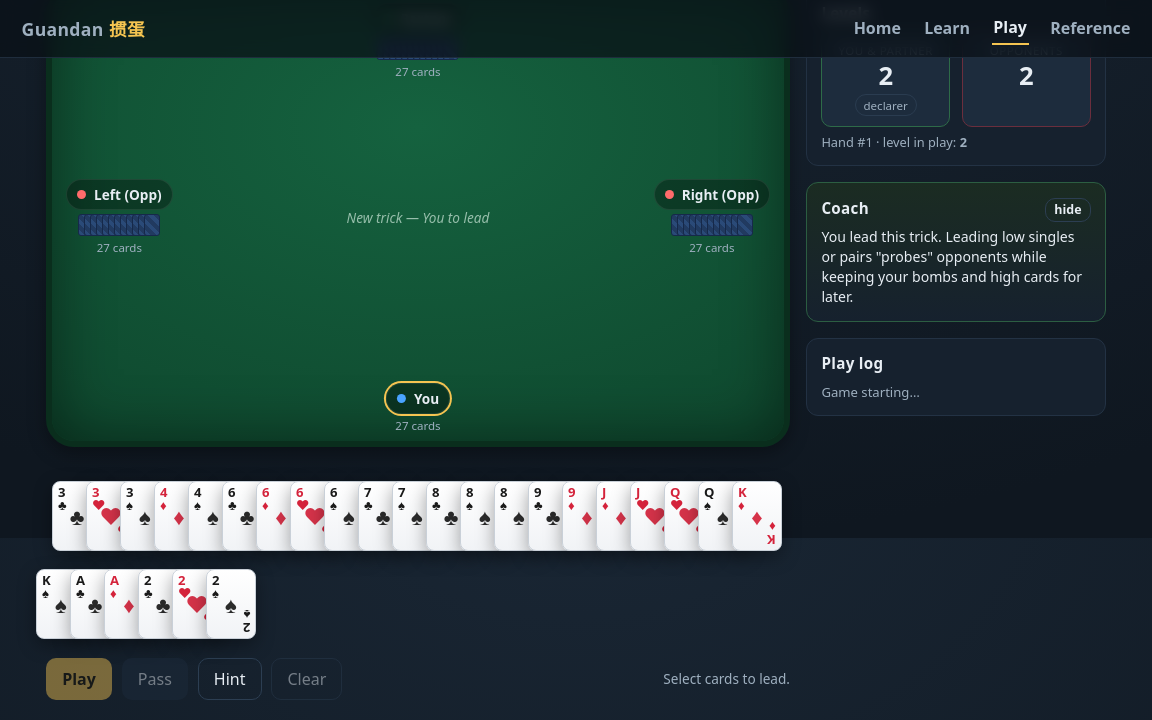
Test: Play loop › human leads, then AI seats take their turns on the timer
(page scrolled)
// First hand: the human (seat 0) leads. Use Hint to auto-select a legal lead, then Play.
Click the button "Hint" at [230, 679], box x1=198 y1=658 x2=262 y2=700
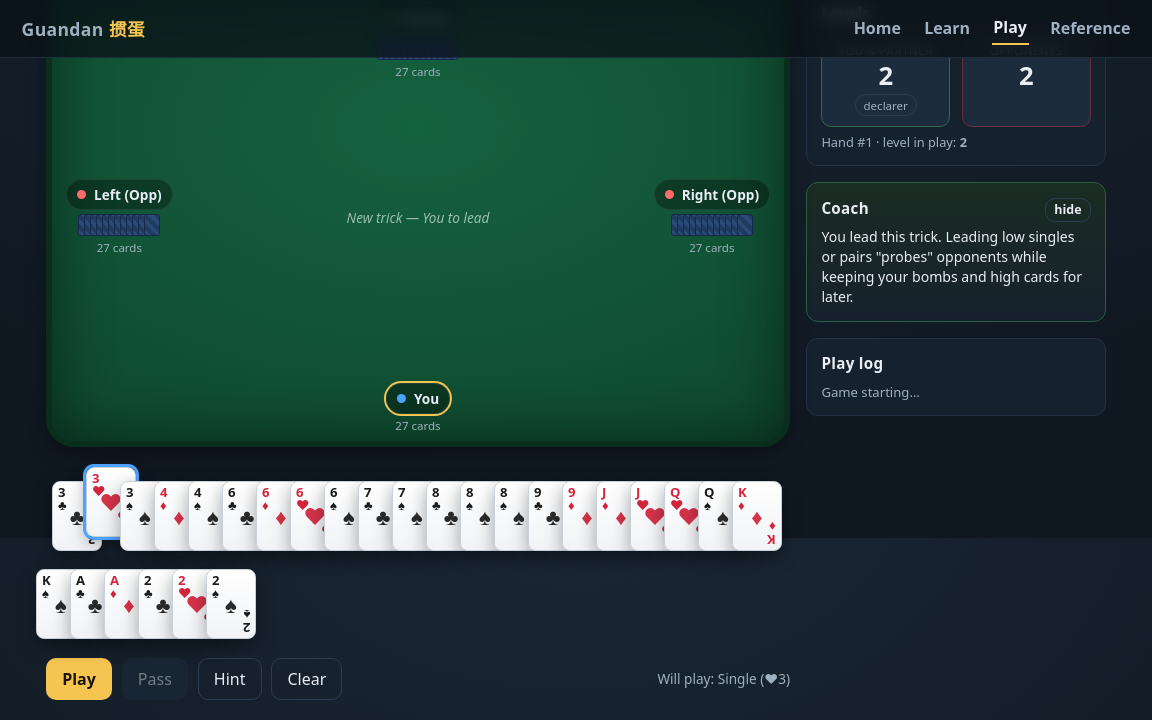
Click the button "Play" at [79, 679], box x1=46 y1=658 x2=112 y2=700
Wait 4000 ms
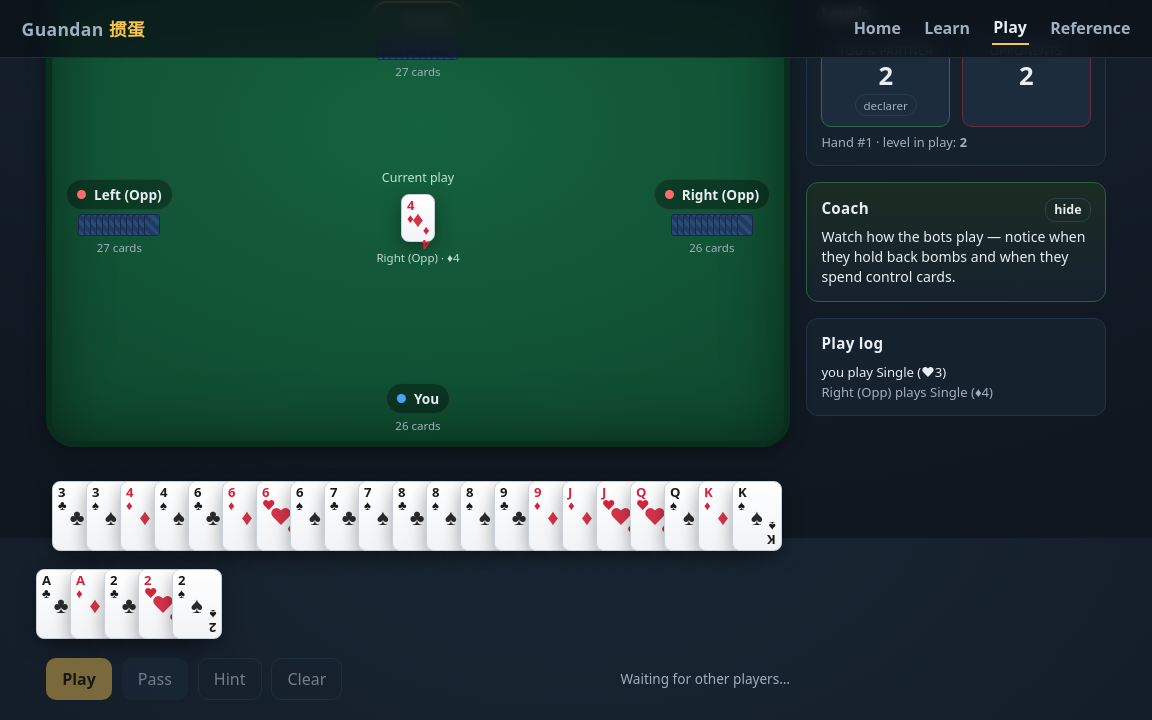
Expected: the text "you play Single (♥3)" is shown, x1=821 y1=363 x2=946 y2=381
Expected: the element with class "log" reads "you play Single (♥3) Right (Opp) plays Single (♦4)", x1=821 y1=383 x2=895 y2=401
